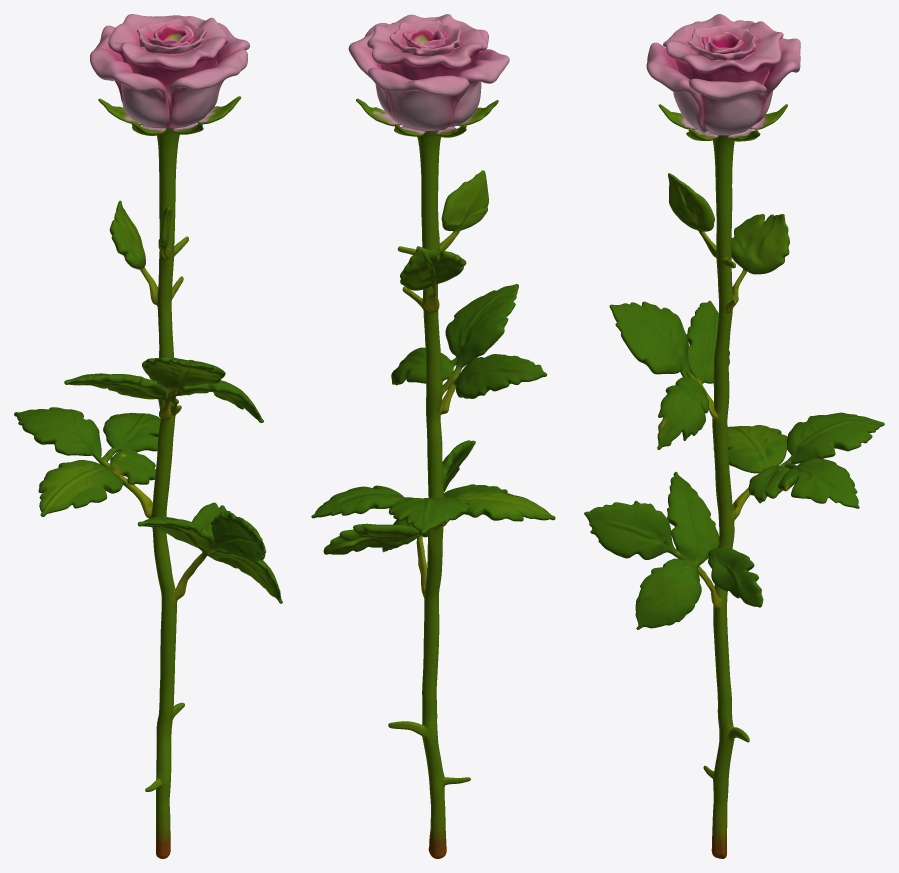
The model's file is pinkrose2.glb.
3 views of the same model, side by side, from view 1: azimuth 30°, elevation 25°; view 2: azimuth 150°, elevation 25°; view 3: azimuth 270°, elevation 25° (orthographic).
Visible parts, largest first — view 1: tripo_node_ad386584-3a67-463e-ac1d-95562428720c; view 2: tripo_node_ad386584-3a67-463e-ac1d-95562428720c; view 3: tripo_node_ad386584-3a67-463e-ac1d-95562428720c.
Boxes of the visible parts, x1,y1,x2,y2 form: tripo_node_ad386584-3a67-463e-ac1d-95562428720c: (14, 14, 282, 858); tripo_node_ad386584-3a67-463e-ac1d-95562428720c: (311, 14, 555, 858); tripo_node_ad386584-3a67-463e-ac1d-95562428720c: (584, 14, 884, 858).
Bounding box in the file's own units: 0.2721 × 1 × 0.3304.
Materials: 1 (1 with a texture image).
